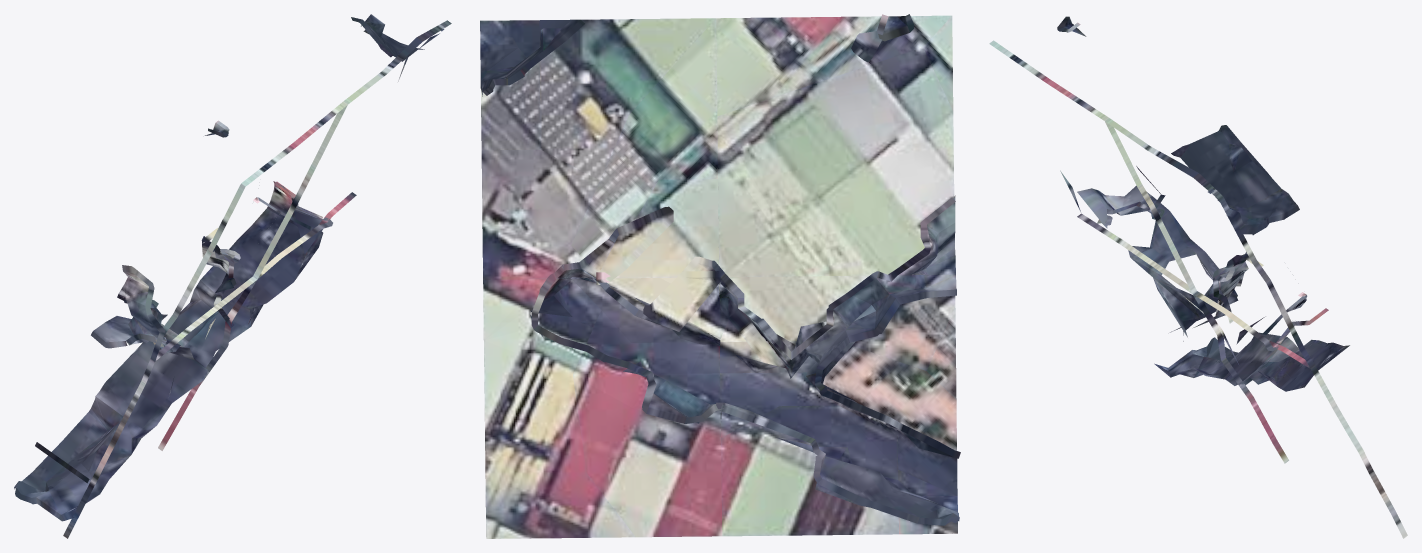
3 views of the same model, side by side, from view 1: azimuth 30°, elevation 25°; view 2: azimuth 150°, elevation 25°; view 3: azimuth 270°, elevation 25° (orthographic). The views are drawn at different scales.
Bounding box in the file's own units: 40.43 × 37.1 × 33.29.
Materials: 1 (1 with a texture image).
